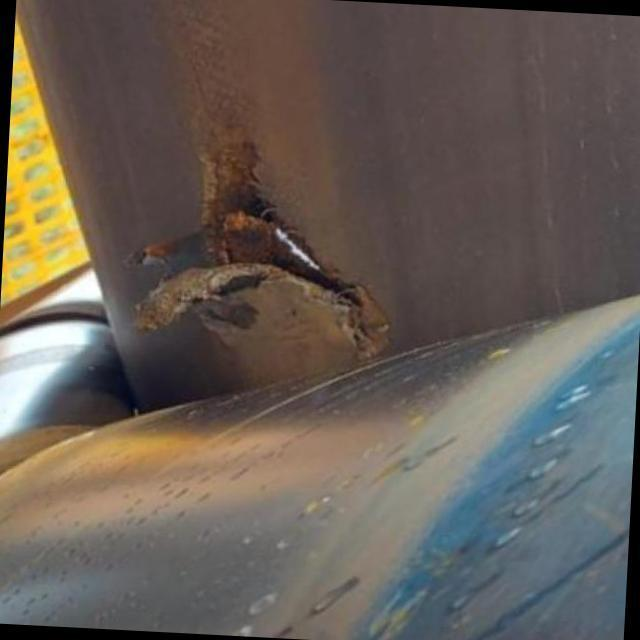Tear: (112, 86, 432, 390)
